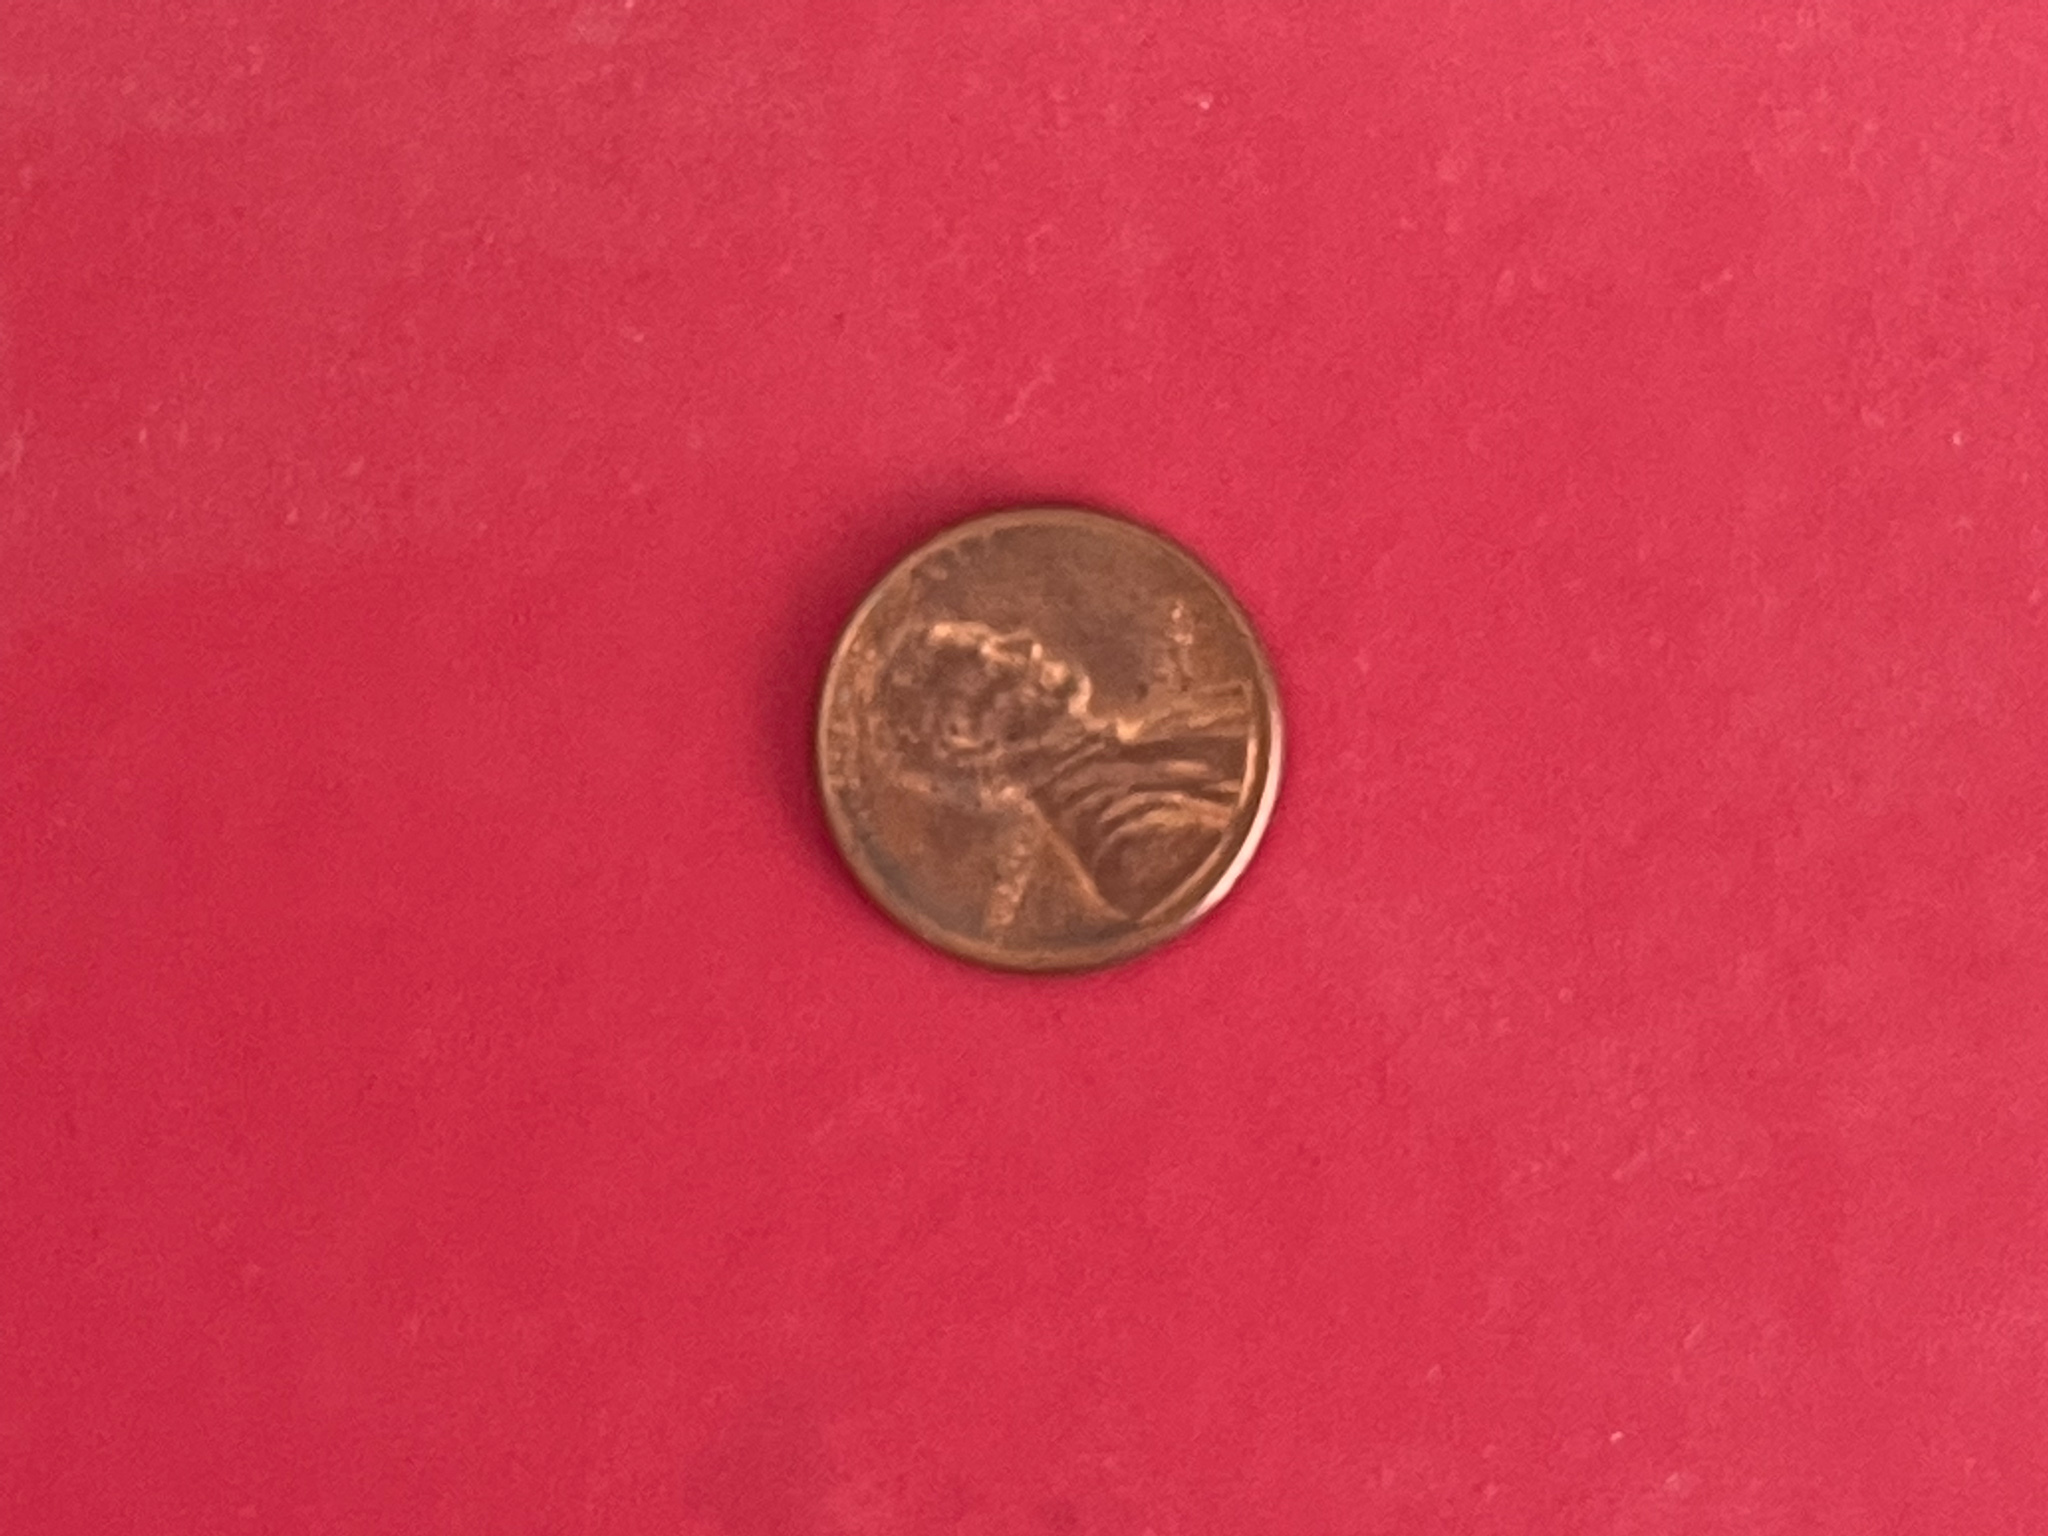penny: (805, 499, 1287, 976)
